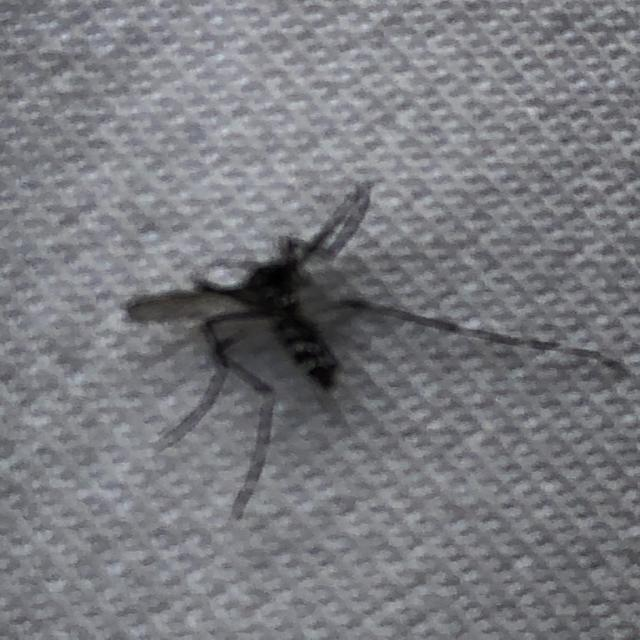albopictus: (124, 199, 574, 457)
